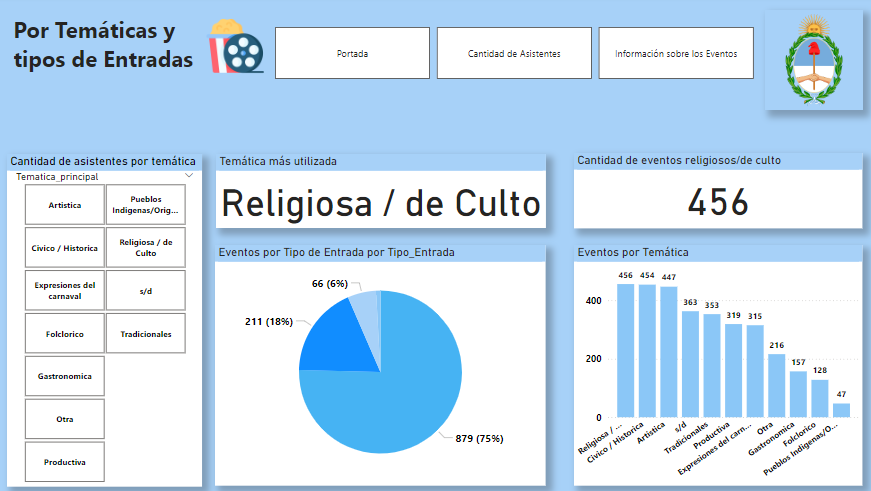

The page's visual inventory and layout, read from the dashboard file:
{"tool":"powerbi","page":{"name":"Por Temáticas y tipos de Entrada ","canvas":[1280,720],"ordinal":3},"visuals":[{"type":"slicer","title":"Cantidad de asistentes por temática","fields":{"Values":["Categoria.Tematica_principal"]},"box":[16.5,227.9,282.4,480.6],"z":0},{"type":"pieChart","fields":{"Category":["Entradas.Tipo_Entrada"],"Y":["_DAX.Eventos por Tipo de Entrada"]},"box":[316.7,360,478.3,348.3],"z":1000},{"type":"clusteredColumnChart","title":"Eventos por Temática ","fields":{"Y":["_DAX.Eventos por Temática"],"Category":["Categoria.Tematica_principal"]},"box":[835.5,360.1,416.9,348],"z":2000},{"type":"card","title":"Temática más utilizada","fields":{"Values":["_DAX.Tematica_mas_usada"]},"box":[318.8,227.9,477.3,107.4],"z":3000},{"type":"image","box":[1111.2,20.7,141.3,144.7],"z":4000},{"type":"card","title":"Cantidad de eventos religiosos/de culto","fields":{"Values":["_DAX.Cantidad_Eventos_Tematica_Mas_Usada"]},"box":[835.5,227.4,416.9,108.5],"z":5000},{"type":"textbox","box":[20.7,20.7,279.1,103.4],"z":6000},{"type":"image","box":[299.8,24.1,93,94.8],"z":7000},{"type":"pageNavigator","box":[403.4,44.8,694,75.2],"z":8000}]}

Visuals, with their boxes in screenshot pixels (x1, y1, x2, y2), scaled from the page's 1280x720 canvas onto the 871x491 screenshot:
"Cantidad de asistentes por temática" slicer: locate(11, 155, 203, 483)
pieChart - Entradas.Tipo_Entrada x _DAX.Eventos por Tipo de Entrada: locate(216, 246, 541, 483)
"Eventos por Temática " clusteredColumnChart: locate(569, 246, 852, 483)
"Temática más utilizada" card: locate(217, 155, 542, 229)
image: locate(756, 14, 852, 113)
"Cantidad de eventos religiosos/de culto" card: locate(569, 155, 852, 229)
textbox: locate(14, 14, 204, 85)
image: locate(204, 16, 267, 81)
pageNavigator: locate(275, 31, 747, 82)
